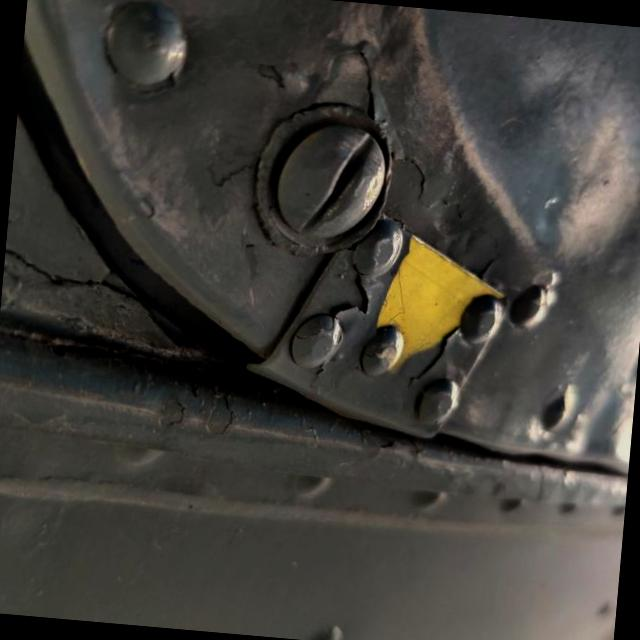paint-off: (353, 213, 530, 399)
